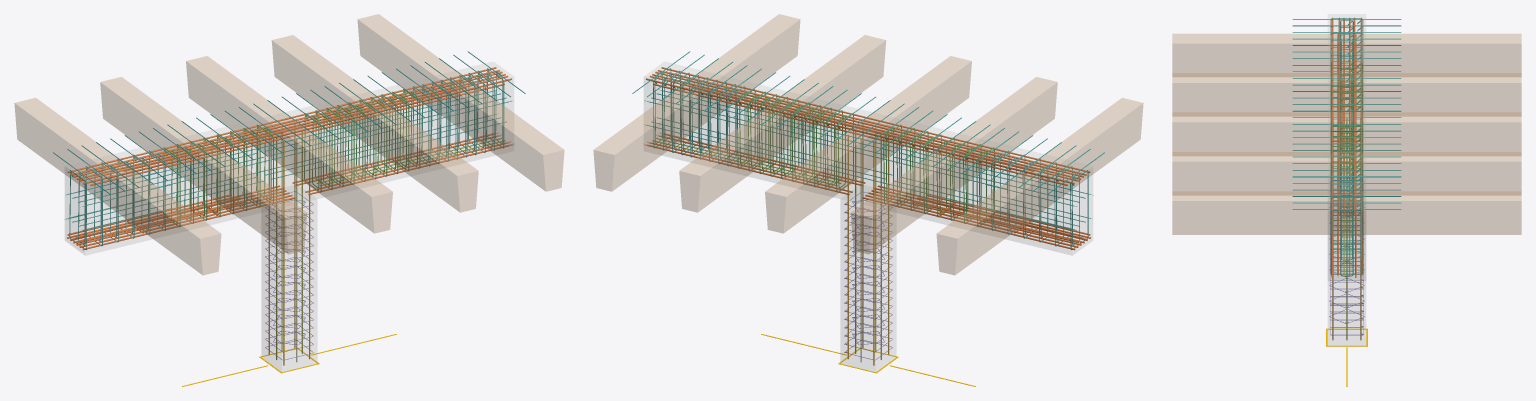
The model's file is unterzug-441-vorort13-ft.glb.
The picture shows the model from 3 angles, left to right: view 1: azimuth 30°, elevation 25°; view 2: azimuth 150°, elevation 25°; view 3: azimuth 270°, elevation 25°; orthographic projection. The views are drawn at different scales.
Parts seen in each view (by area): view 1: Beton, Fertigteiltraeger_1, Fertigteiltraeger_2, Fertigteiltraeger_3, Fertigteiltraeger_4, Fertigteiltraeger_5, Pos_22_4, Pos_23_4, Pos_22_3, Pos_25_2, Pos_23_3, Pos_24_2 (+4 smaller); view 2: Beton, Fertigteiltraeger_1, Fertigteiltraeger_2, Fertigteiltraeger_3, Fertigteiltraeger_5, Fertigteiltraeger_4, Pos_22_3, Pos_23_3, Pos_22_4, Pos_25_1, Pos_23_4, Pos_24_1 (+5 smaller); view 3: Fertigteiltraeger_5, Fertigteiltraeger_3, Fertigteiltraeger_2, Fertigteiltraeger_4, Fertigteiltraeger_1, Beton, Pos_22_4, Pos_23_3, Pos_23_4, Pos_22_3, Pos_24_1, Pos_24_2 (+1 smaller).
Part boxes in pixels (x1,y1,x2,y2): Beton: (65,62,513,371); Fertigteiltraeger_1: (14,98,220,275); Fertigteiltraeger_2: (100,77,306,254); Fertigteiltraeger_3: (186,56,392,233); Fertigteiltraeger_4: (272,35,478,212); Fertigteiltraeger_5: (357,14,564,191); Pos_22_4: (83,78,511,184); Pos_23_4: (79,75,508,181); Pos_22_3: (67,67,496,172); Pos_25_2: (90,84,504,185); Pos_23_3: (71,70,500,175); Pos_24_2: (76,74,505,179); Beton: (644,62,1092,371); Fertigteiltraeger_1: (937,98,1143,275); Fertigteiltraeger_2: (851,77,1057,254); Fertigteiltraeger_3: (765,56,971,233); Fertigteiltraeger_5: (593,14,800,191); Fertigteiltraeger_4: (679,35,885,212); Pos_22_3: (646,78,1074,184); Pos_23_3: (649,75,1078,181); Pos_22_4: (661,67,1090,172); Pos_25_1: (653,83,1067,185); Pos_23_4: (657,70,1086,175); Pos_24_1: (652,74,1081,179); Fertigteiltraeger_5: (1172,191,1521,234); Fertigteiltraeger_3: (1172,112,1521,155); Fertigteiltraeger_2: (1172,73,1521,116); Fertigteiltraeger_4: (1172,152,1521,195); Fertigteiltraeger_1: (1172,34,1521,76); Beton: (1328,14,1365,344); Pos_22_4: (1331,17,1333,214); Pos_23_3: (1353,17,1355,214); Pos_23_4: (1338,17,1340,214); Pos_22_3: (1360,17,1362,214); Pos_24_1: (1349,17,1350,214); Pos_24_2: (1343,17,1344,214).
Bounding box in the file's own units: 6.11 × 3.2 × 4.5.
